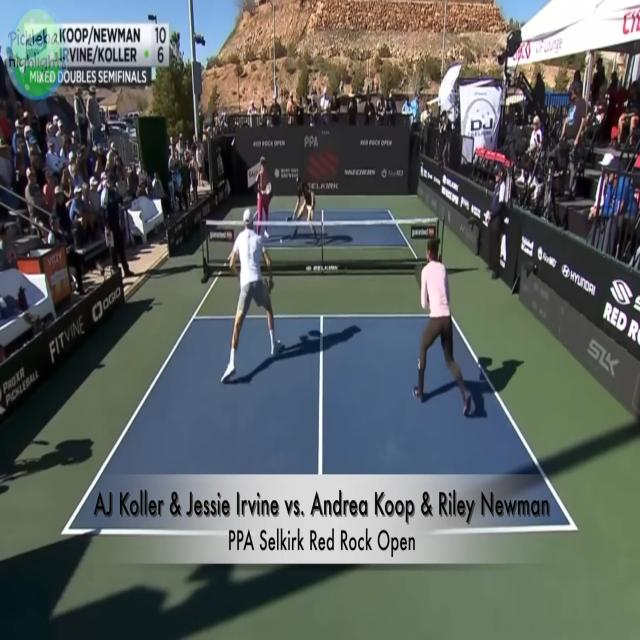ball: (279, 236, 284, 246)
